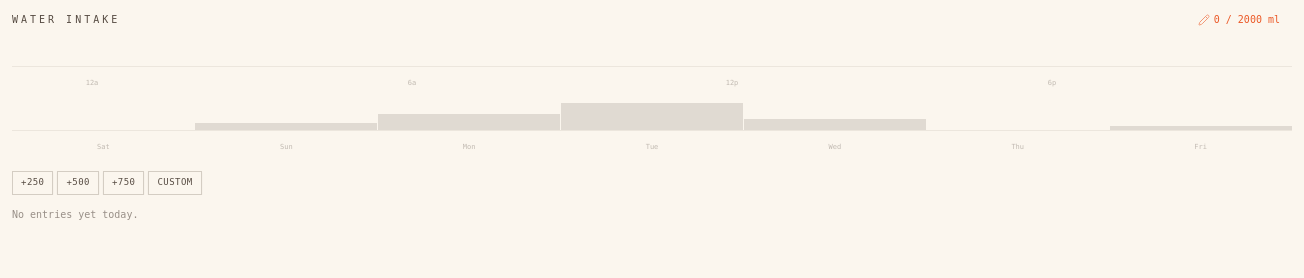
Test: WaterTracker › clicking Custom shows the amount input
Click the button "Custom": (175,183) x1=148 y1=171 x2=202 y2=194
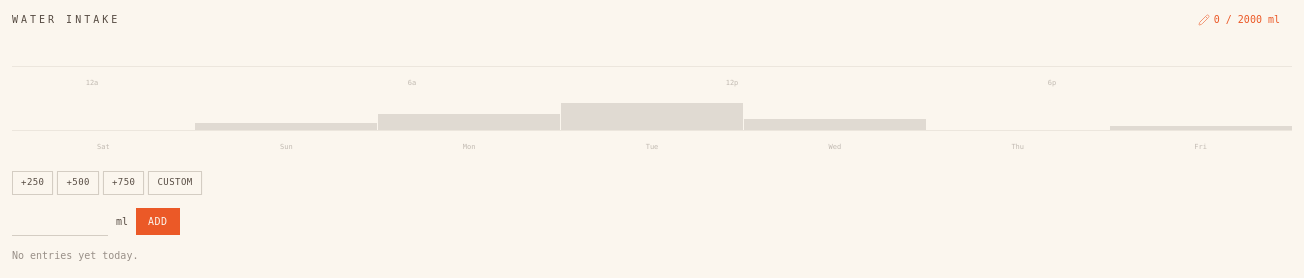
Expected: the number field named "Custom water amount in ml" is shown, x1=12 y1=206 x2=108 y2=236
